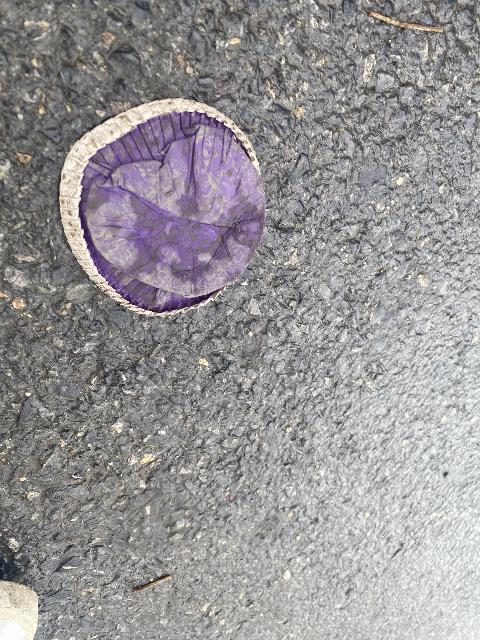Organik: (363, 0, 459, 54), (102, 560, 197, 606)
Plastik: (59, 81, 279, 325)
